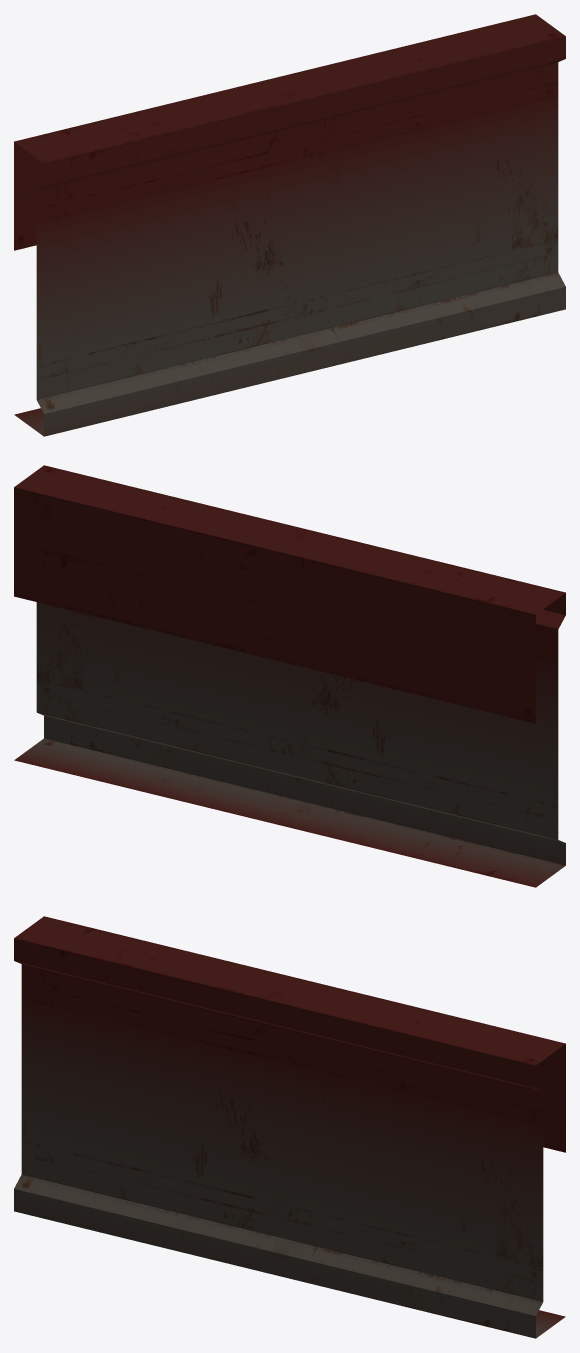
The model's file is Cornice_Metal_Center.gltf.
The picture shows the model from 3 angles, top to bottom: view 1: azimuth 30°, elevation 25°; view 2: azimuth 150°, elevation 25°; view 3: azimuth 330°, elevation 25°; orthographic projection.
Visible parts, largest first — view 1: Cornice_Metal_Center; view 2: Cornice_Metal_Center; view 3: Cornice_Metal_Center.
Boxes of the visible parts, bbox=[...] form: Cornice_Metal_Center: bbox=[14, 14, 565, 436]; Cornice_Metal_Center: bbox=[14, 465, 565, 887]; Cornice_Metal_Center: bbox=[14, 916, 565, 1338].
Size of the model in its own units: 2 by 1 by 0.2.
1 material, 1 textured.
